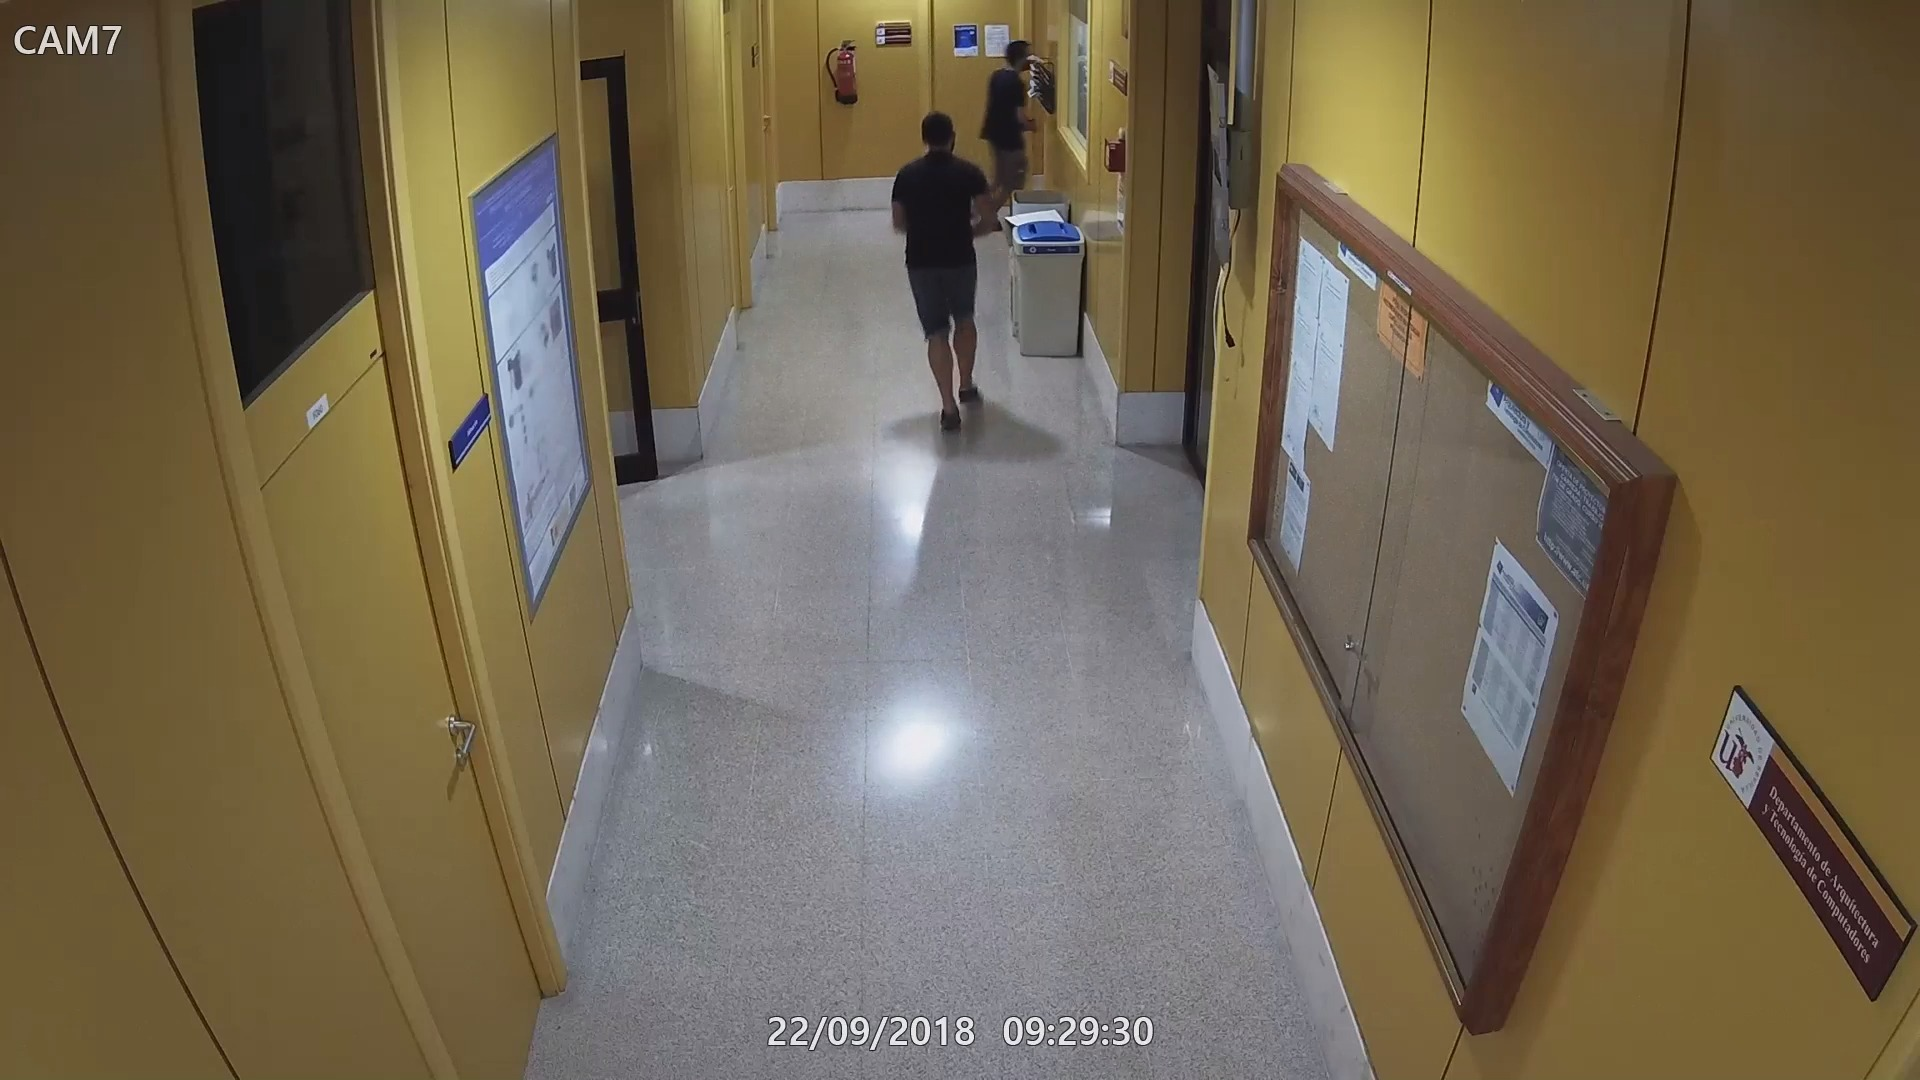Handgun: (1021, 112, 1046, 138)
